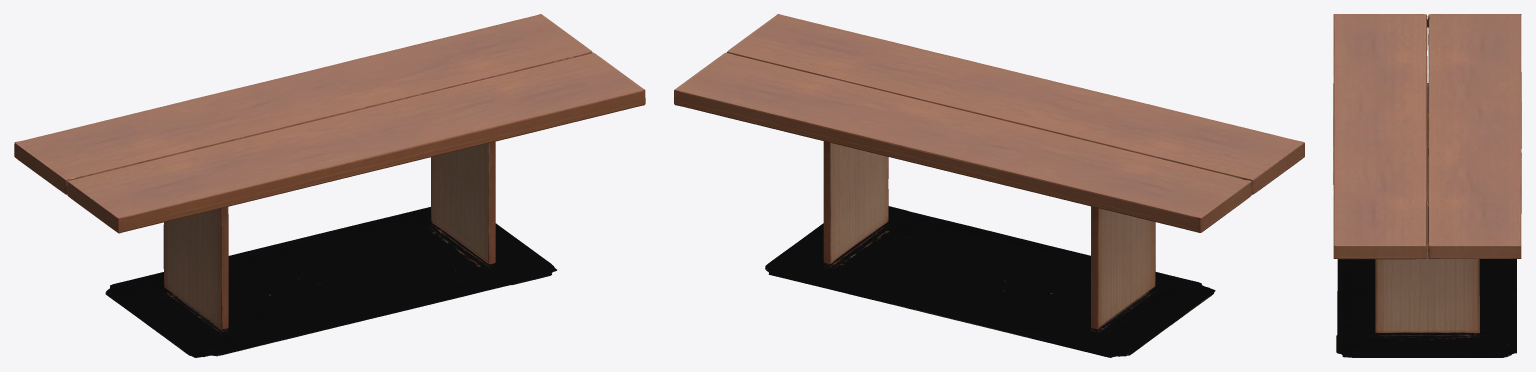
File: 6816bef1-9a8e-4406-9ed9-2737feeb801f.glb
3 renders of one model, left to right at view 1: azimuth 30°, elevation 25°; view 2: azimuth 150°, elevation 25°; view 3: azimuth 270°, elevation 25°, orthographic. The views are drawn at different scales.
Parts seen in each view (by area): view 1: world; view 2: world; view 3: world.
Boxes of the visible parts, x1,y1,x2,y2 form: world: (14,14,645,357); world: (674,14,1304,357); world: (1333,14,1521,357).
Size of the model in its own units: 1 by 0.2982 by 0.3431.
Materials: 1 (1 with a texture image).
